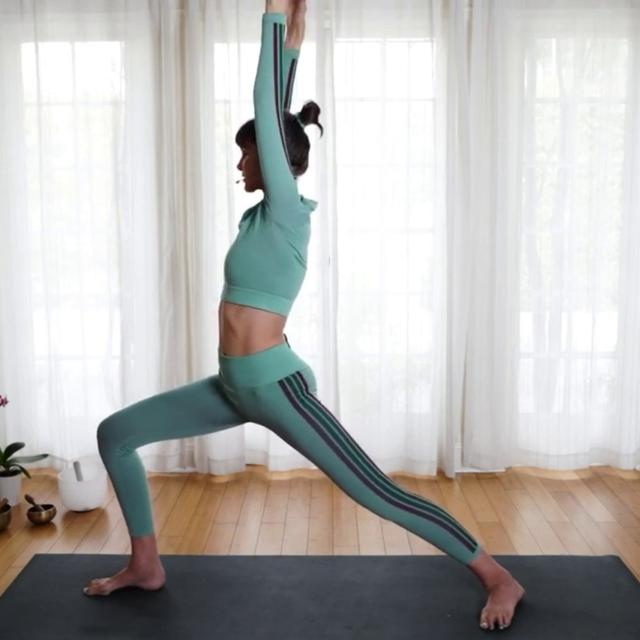Warrior_I: (46, 1, 588, 635)
